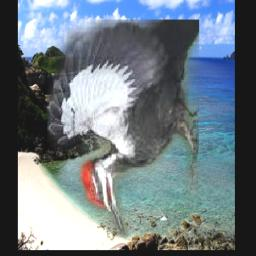Woodpecker: (48, 21, 200, 238)
